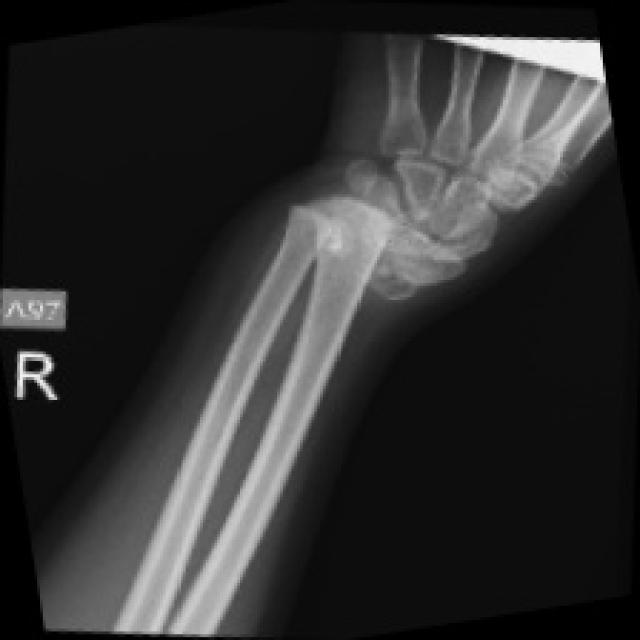fracture: (277, 146, 415, 280)
